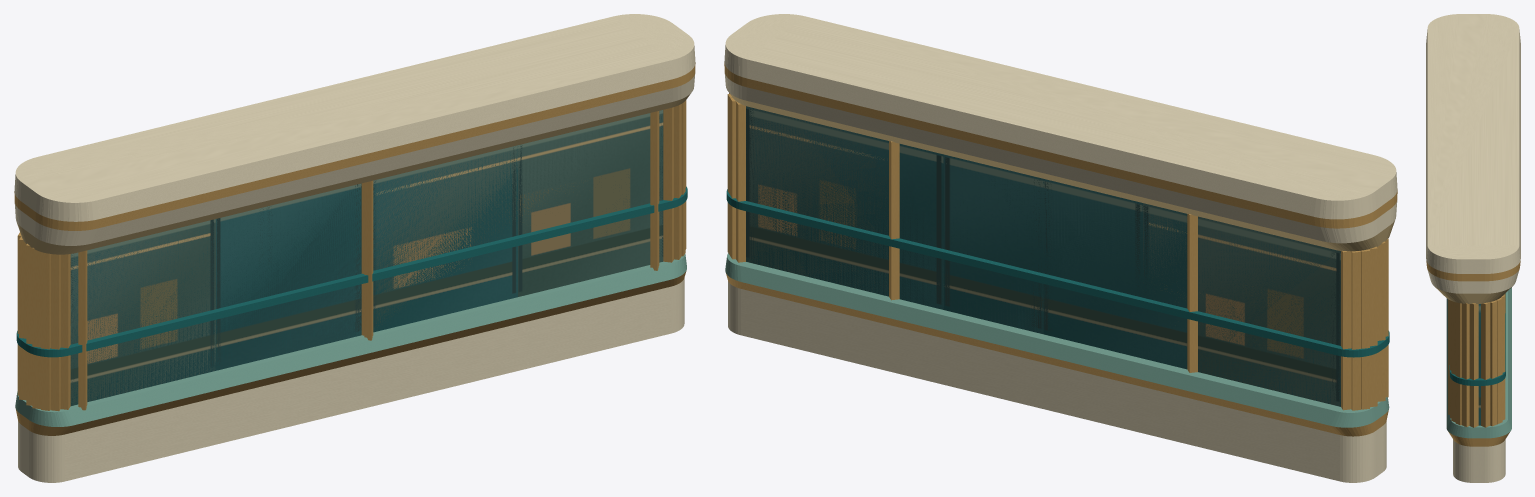
File: TerraceBay.fbx
3 renders of one model, left to right at view 1: azimuth 30°, elevation 25°; view 2: azimuth 150°, elevation 25°; view 3: azimuth 270°, elevation 25°, orthographic. The views are drawn at different scales.
Visible parts, largest first — view 1: TerraceBay Close, TerraceBay Horizon, TerraceBay Street; view 2: TerraceBay Close, TerraceBay Street, TerraceBay Horizon; view 3: TerraceBay Close, TerraceBay Horizon, TerraceBay Street.
Boxes of the visible parts, x1,y1,x2,y2 form: TerraceBay Close: (14, 14, 695, 482); TerraceBay Horizon: (16, 14, 693, 411); TerraceBay Street: (14, 15, 694, 482); TerraceBay Close: (724, 14, 1397, 482); TerraceBay Street: (725, 14, 1397, 482); TerraceBay Horizon: (726, 14, 1395, 412); TerraceBay Close: (1426, 14, 1520, 482); TerraceBay Horizon: (1427, 14, 1518, 426); TerraceBay Street: (1427, 14, 1519, 482).
Size of the model in its own units: 805 by 339 by 130.
